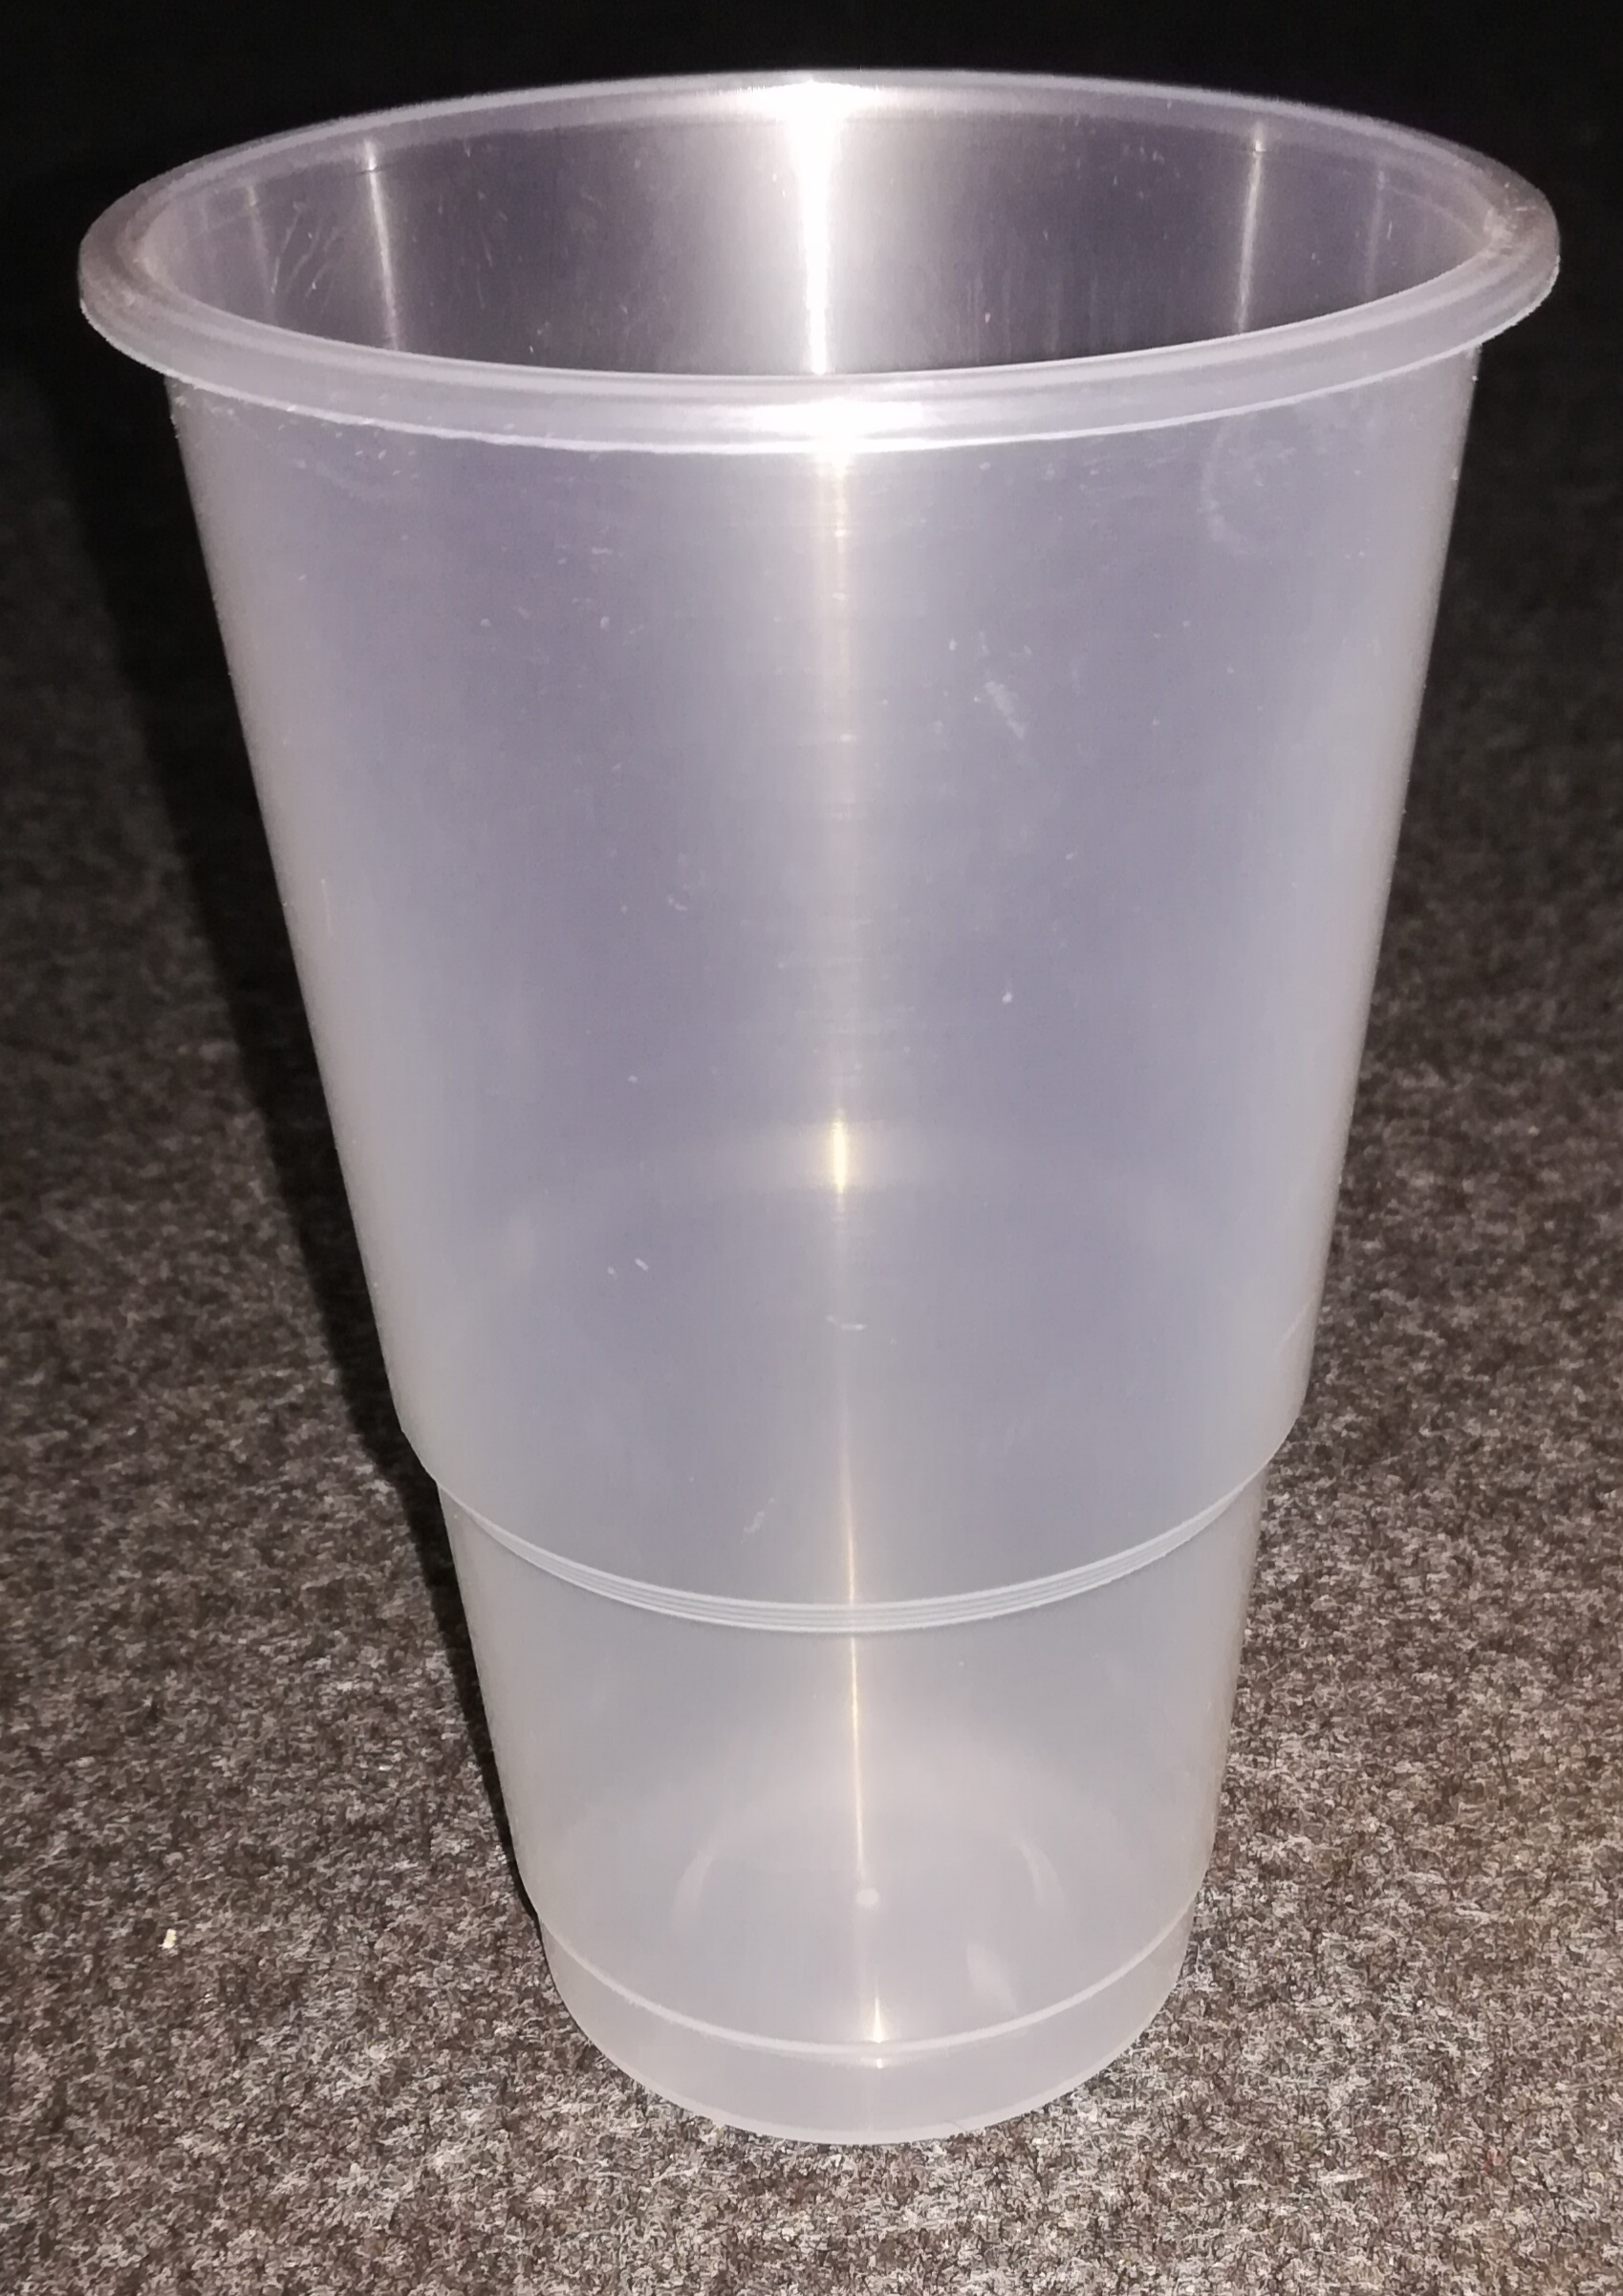plastic_glass: (47, 40, 1572, 2166)
